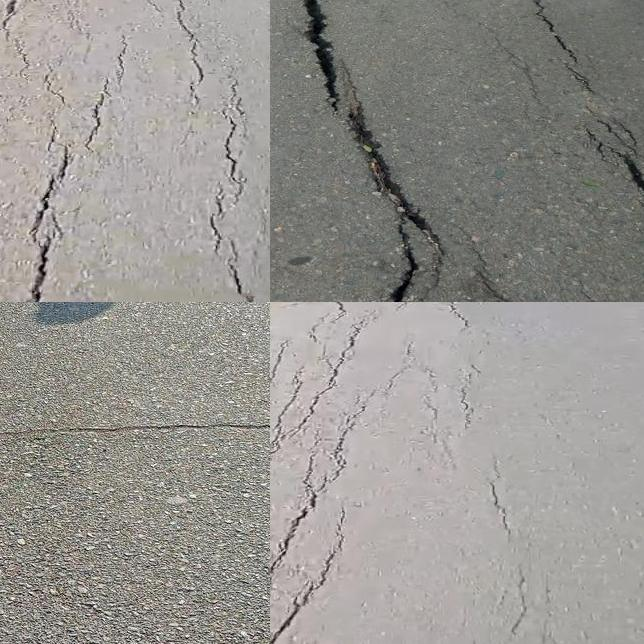Melintang: (0, 413, 270, 449)
Memanjang: (280, 0, 454, 302), (15, 35, 143, 302), (500, 0, 644, 221), (270, 373, 406, 602), (270, 505, 357, 644), (169, 0, 214, 92)
